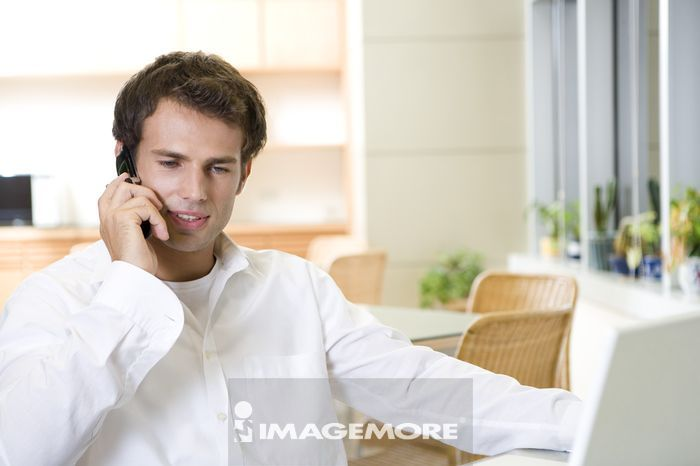talk: (98, 132, 239, 282)
